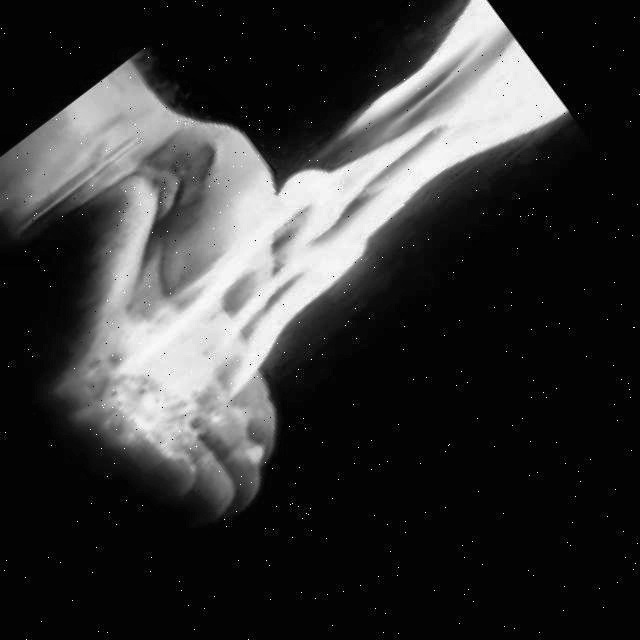Fire: (65, 0, 592, 443)
